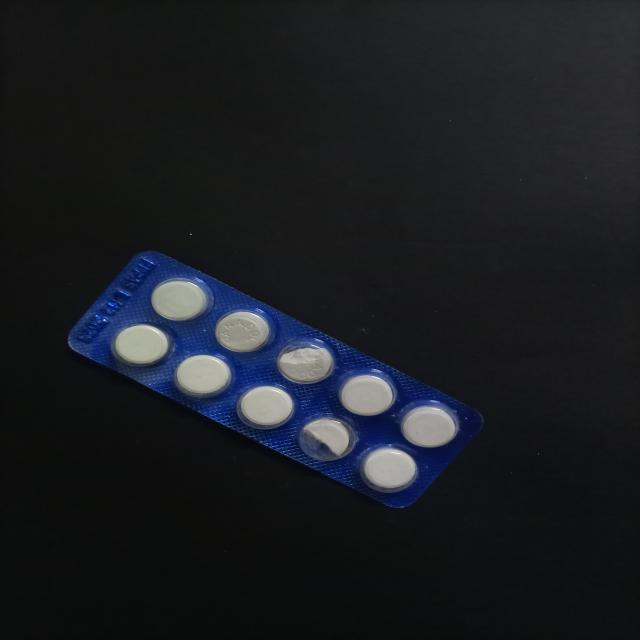defect: (296, 412, 358, 462), (276, 336, 337, 386)
